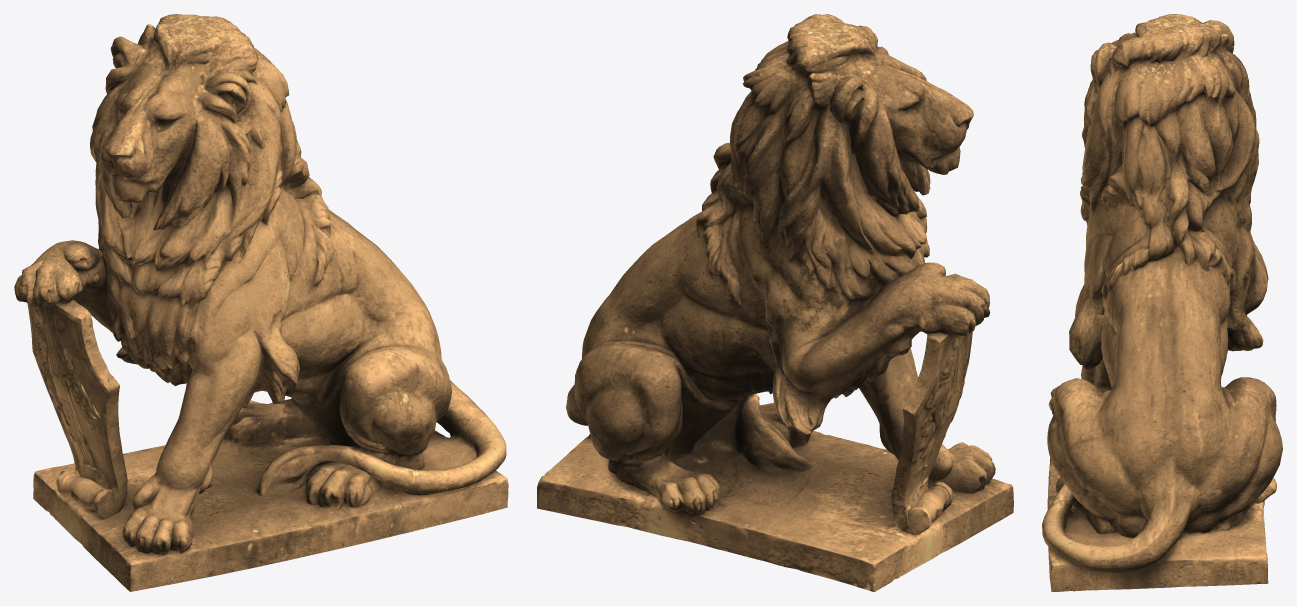
The model's file is a6-astral-lion.glb.
3 views of the same model, side by side, from view 1: azimuth 30°, elevation 25°; view 2: azimuth 150°, elevation 25°; view 3: azimuth 270°, elevation 25° (orthographic). The views are drawn at different scales.
Parts seen in each view (by area): view 1: CC0 lion scan - Object_2; view 2: CC0 lion scan - Object_2; view 3: CC0 lion scan - Object_2.
Boxes of the visible parts, x1=… form: CC0 lion scan - Object_2: x1=14, y1=14, x2=508, y2=591; CC0 lion scan - Object_2: x1=537, y1=14, x2=1013, y2=591; CC0 lion scan - Object_2: x1=1042, y1=14, x2=1282, y2=591.
Size of the model in its own units: 1.99 by 2.15 by 1.03.
Materials: 1 (1 with a texture image).
